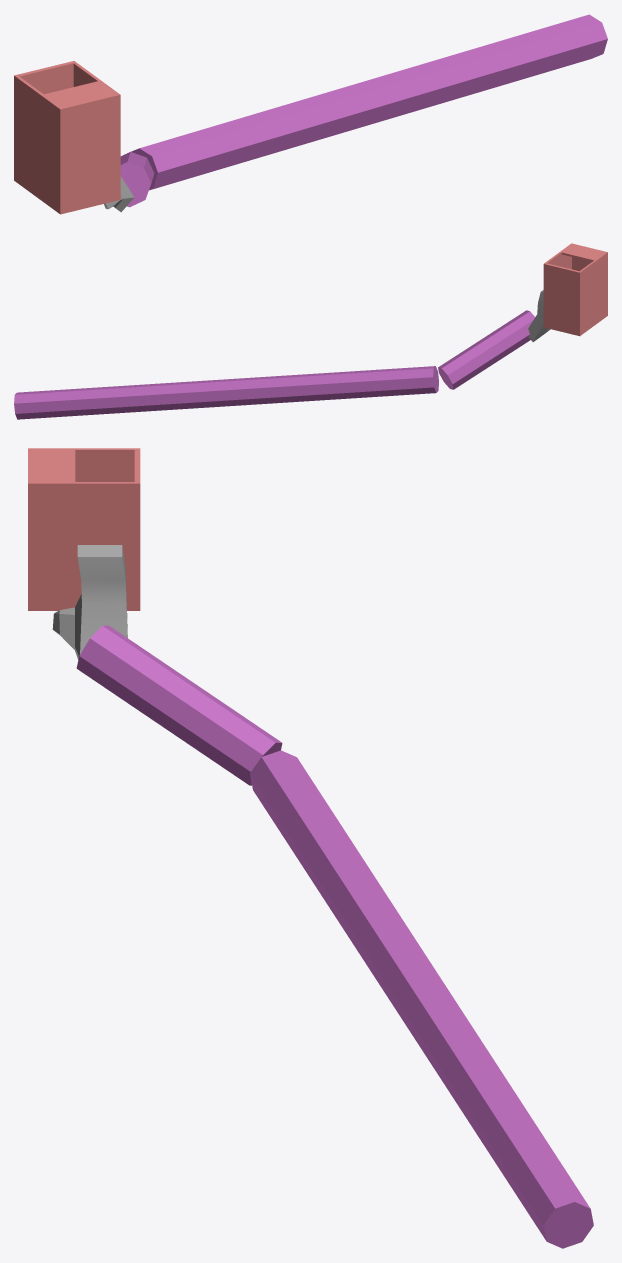
File: rightArm.fbx
3 views of the same model, one above another, from view 1: azimuth 30°, elevation 25°; view 2: azimuth 150°, elevation 25°; view 3: azimuth 270°, elevation 25° (orthographic). The views are drawn at different scales.
Visible parts, largest first — view 1: backArm_Right, box_Right, foreArm_Right, hand_Right; view 2: backArm_Right, box_Right, foreArm_Right, hand_Right; view 3: backArm_Right, box_Right, foreArm_Right, hand_Right.
Boxes of the visible parts, left/top/right/bottom form: backArm_Right: left=131, top=14, right=607, bottom=190; box_Right: left=14, top=61, right=120, bottom=214; foreArm_Right: left=120, top=151, right=154, bottom=207; hand_Right: left=104, top=176, right=134, bottom=212; backArm_Right: left=14, top=366, right=438, bottom=419; box_Right: left=543, top=243, right=607, bottom=336; foreArm_Right: left=438, top=310, right=535, bottom=389; hand_Right: left=528, top=290, right=550, bottom=341; backArm_Right: left=250, top=750, right=593, bottom=1248; box_Right: left=28, top=448, right=140, bottom=610; foreArm_Right: left=76, top=625, right=282, bottom=785; hand_Right: left=52, top=545, right=127, bottom=659.
Size of the model in its own units: 2.17 by 0.8051 by 1.16.
